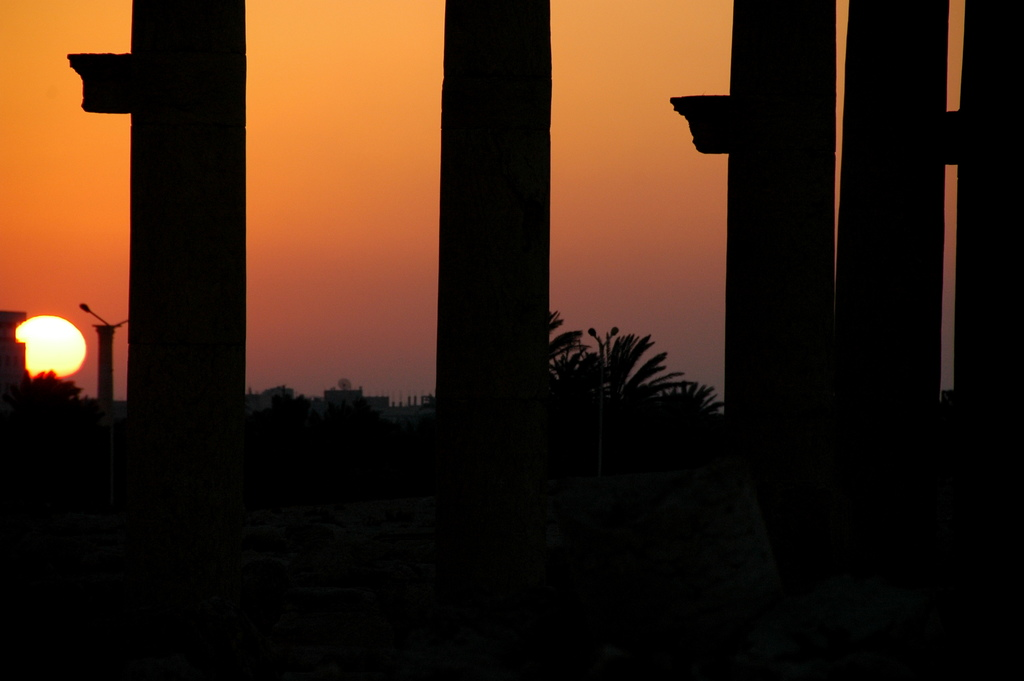Tree: (551, 317, 689, 402), (544, 308, 590, 382), (24, 365, 87, 406), (665, 387, 715, 411)
